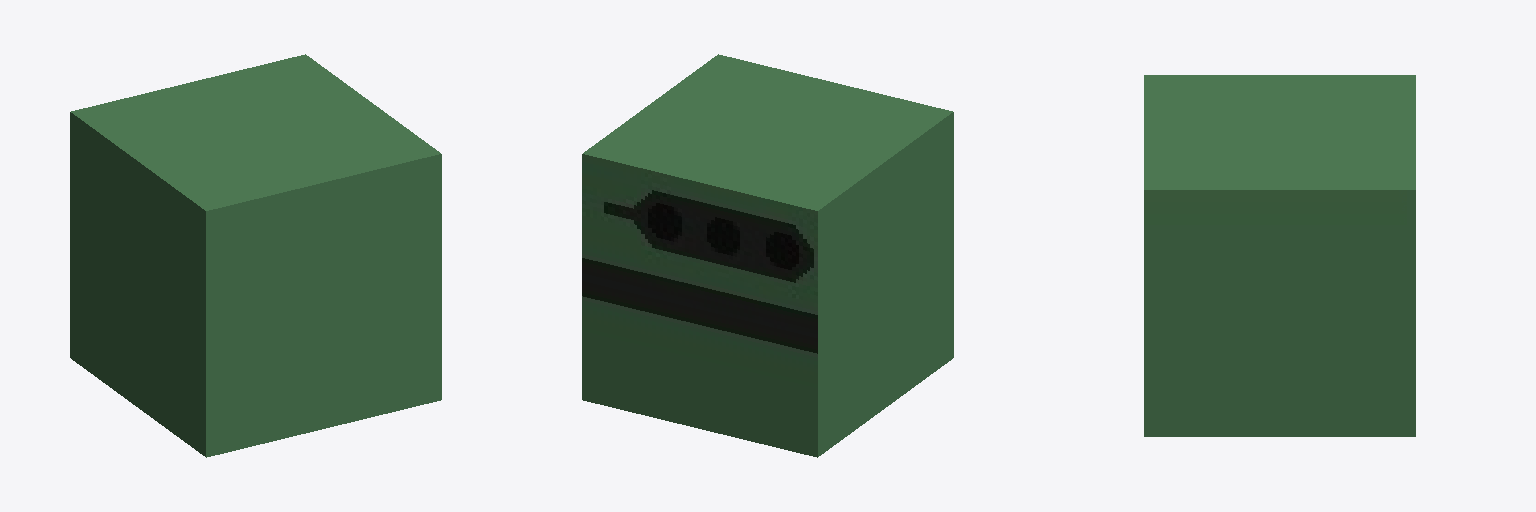
3 renders of one model, left to right at view 1: azimuth 30°, elevation 25°; view 2: azimuth 150°, elevation 25°; view 3: azimuth 270°, elevation 25°, orthographic.
Visible parts, largest first — view 1: generalCube, off; view 2: generalCube, off; view 3: generalCube, off.
Boxes of the visible parts, <box> form: generalCube: <box>75,57,441,457</box>; off: <box>70,54,310,363</box>; generalCube: <box>589,54,953,453</box>; off: <box>582,148,825,457</box>; generalCube: <box>1144,75,1406,436</box>; off: <box>1399,75,1415,436</box>.
Size of the model in its own units: 1 by 1 by 1.
Materials: 2 (1 with a texture image).